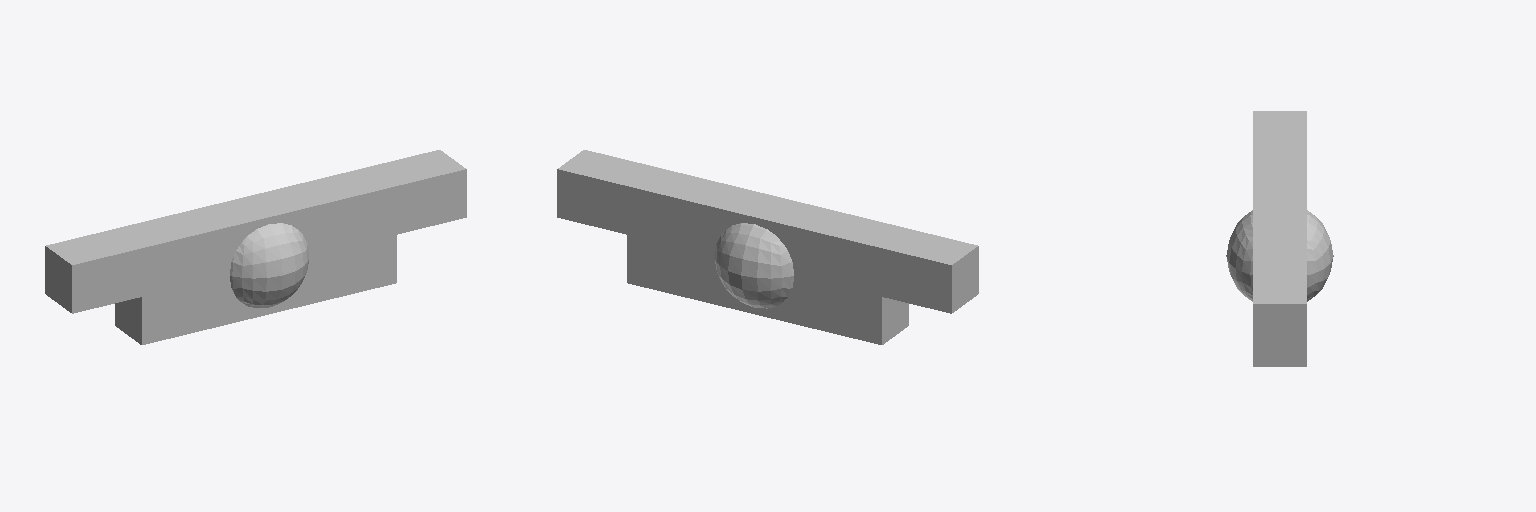
File: Greg Stage centerstage.obj
3 views of the same model, side by side, from view 1: azimuth 30°, elevation 25°; view 2: azimuth 150°, elevation 25°; view 3: azimuth 270°, elevation 25° (orthographic).
Parts seen in each view (by area): view 1: Union1; view 2: Union1; view 3: Union1.
Boxes of the visible parts, x1,y1,x2,y2 form: Union1: [45, 150, 466, 344]; Union1: [557, 150, 978, 344]; Union1: [1226, 111, 1333, 366].
Size of the model in its own units: 34 by 8 by 8.